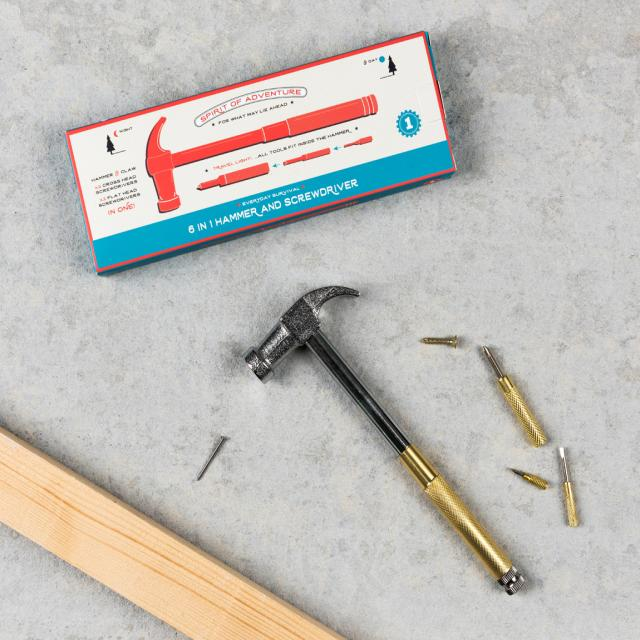Screwdriver: (483, 347, 546, 447), (198, 163, 269, 190), (559, 448, 579, 526), (284, 147, 330, 166), (510, 469, 548, 490)
